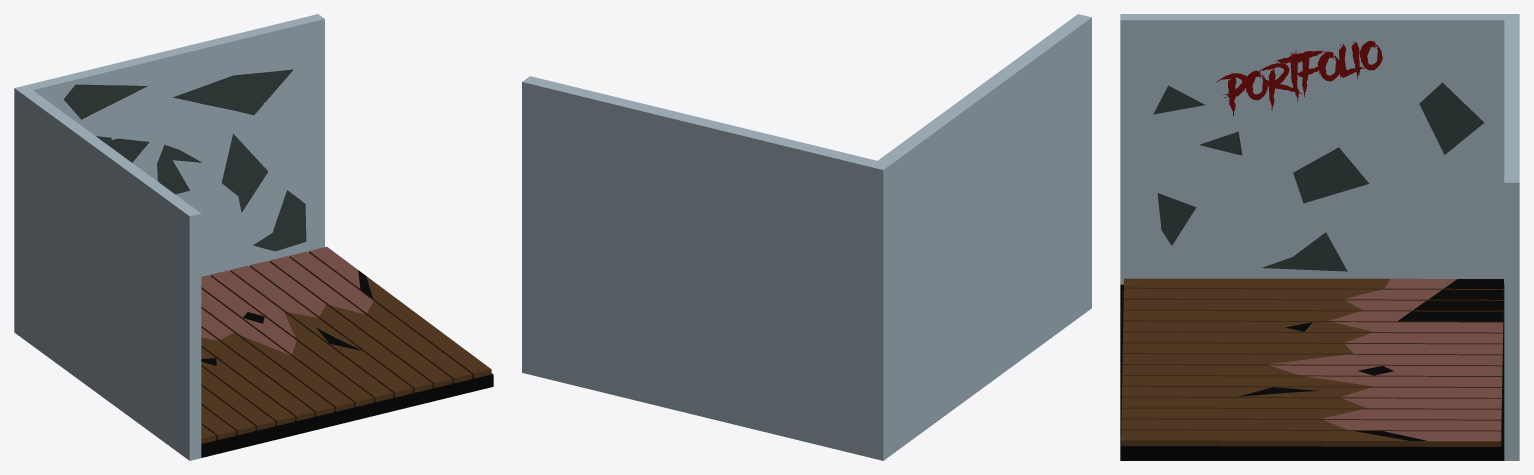
The model's file is inside.gltf.
3 renders of one model, left to right at view 1: azimuth 30°, elevation 25°; view 2: azimuth 150°, elevation 25°; view 3: azimuth 270°, elevation 25°, orthographic. The views are drawn at different scales.
Visible parts, largest first — view 1: wall left, wall right, plank, Floor; view 2: wall right, wall left; view 3: wall left, plank, wall right, Floor, Text.
Part boxes in pixels (x1,y1,x2,y2): wall left: (21, 90, 201, 460); wall right: (14, 14, 324, 337); plank: (201, 246, 491, 443); Floor: (201, 373, 493, 457); wall right: (522, 76, 891, 460); wall left: (877, 14, 1091, 454); wall left: (1120, 14, 1504, 284); plank: (1121, 278, 1503, 446); wall right: (1504, 14, 1519, 460); Floor: (1120, 284, 1504, 460); Text: (1216, 39, 1382, 116).
Size of the model in its own units: 10.42 by 8 by 10.4.
